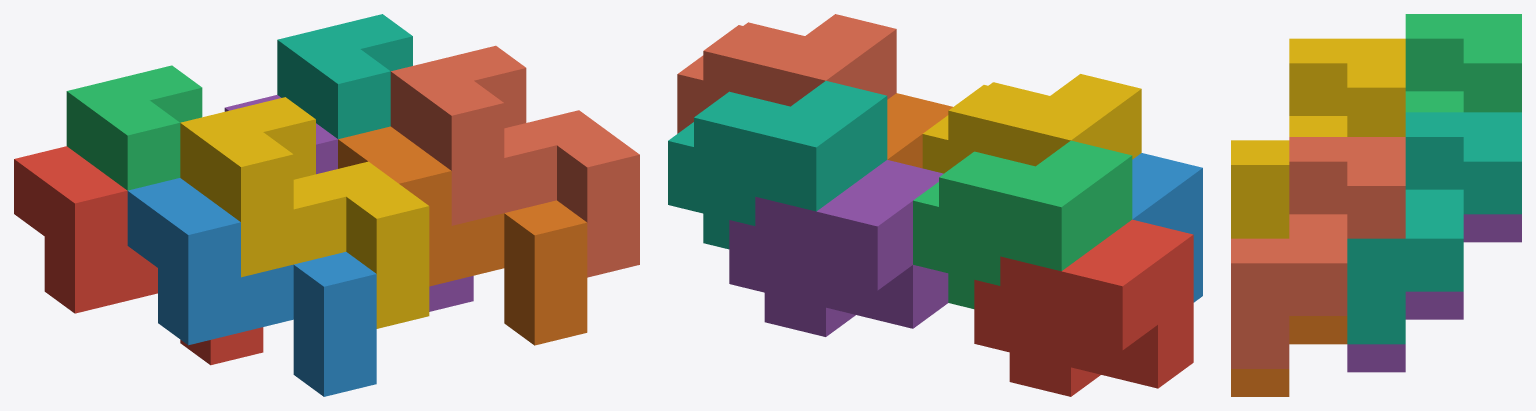
The model's file is tiling.obj.
3 views of the same model, side by side, from view 1: azimuth 30°, elevation 25°; view 2: azimuth 150°, elevation 25°; view 3: azimuth 270°, elevation 25° (orthographic). The views are drawn at different scales.
Visible parts, largest first — view 1: copy_1_domain_4, copy_1_domain_8, copy_1_domain_2, copy_1_domain_6, copy_1_domain_1, copy_1_domain_3, copy_1_domain_7, copy_1_domain_5; view 2: copy_1_domain_1, copy_1_domain_5, copy_1_domain_3, copy_1_domain_7, copy_1_domain_8, copy_1_domain_4, copy_1_domain_2, copy_1_domain_6; view 3: copy_1_domain_8, copy_1_domain_7, copy_1_domain_4, copy_1_domain_3, copy_1_domain_5, copy_1_domain_6.
Part boxes in pixels (bbox=[...]): copy_1_domain_4: bbox=[180, 97, 429, 328]; copy_1_domain_8: bbox=[390, 45, 639, 277]; copy_1_domain_2: bbox=[127, 178, 376, 396]; copy_1_domain_6: bbox=[338, 126, 587, 345]; copy_1_domain_1: bbox=[14, 146, 263, 365]; copy_1_domain_3: bbox=[66, 65, 202, 190]; copy_1_domain_7: bbox=[277, 14, 412, 139]; copy_1_domain_5: bbox=[224, 95, 473, 311]; copy_1_domain_1: bbox=[974, 219, 1193, 396]; copy_1_domain_5: bbox=[729, 160, 948, 336]; copy_1_domain_3: bbox=[913, 140, 1132, 308]; copy_1_domain_7: bbox=[668, 81, 887, 249]; copy_1_domain_8: bbox=[677, 14, 896, 133]; copy_1_domain_4: bbox=[922, 74, 1141, 173]; copy_1_domain_2: bbox=[1132, 153, 1202, 302]; copy_1_domain_6: bbox=[887, 93, 952, 168]; copy_1_domain_8: bbox=[1231, 137, 1405, 368]; copy_1_domain_7: bbox=[1347, 112, 1521, 344]; copy_1_domain_4: bbox=[1231, 38, 1405, 238]; copy_1_domain_3: bbox=[1405, 14, 1521, 112]; copy_1_domain_5: bbox=[1347, 214, 1521, 372]; copy_1_domain_6: bbox=[1231, 316, 1347, 396].
Size of the model in its own units: 9 by 4 by 5.
